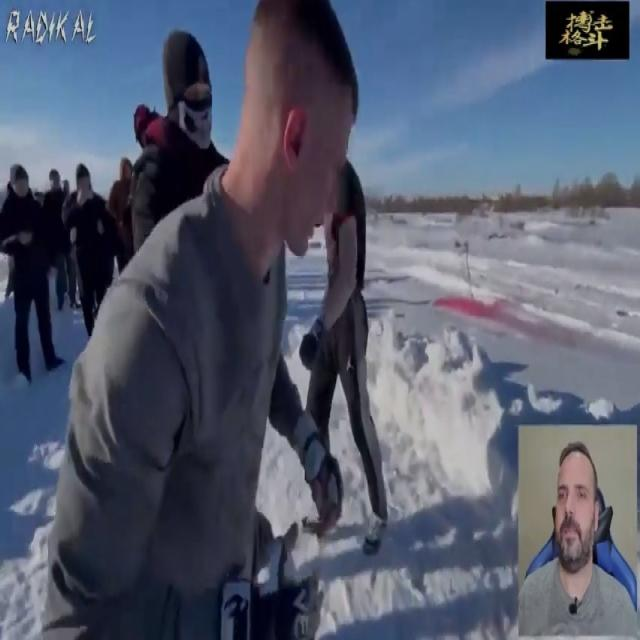fight: (25, 0, 400, 639)
non-fight: (0, 156, 75, 385)
